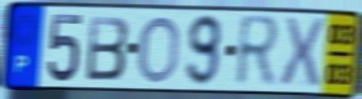5: (44, 11, 86, 84)
9: (183, 12, 223, 89)
B: (84, 13, 132, 82)
O: (135, 13, 182, 86)
R: (233, 13, 284, 91)
X: (278, 15, 326, 90)
